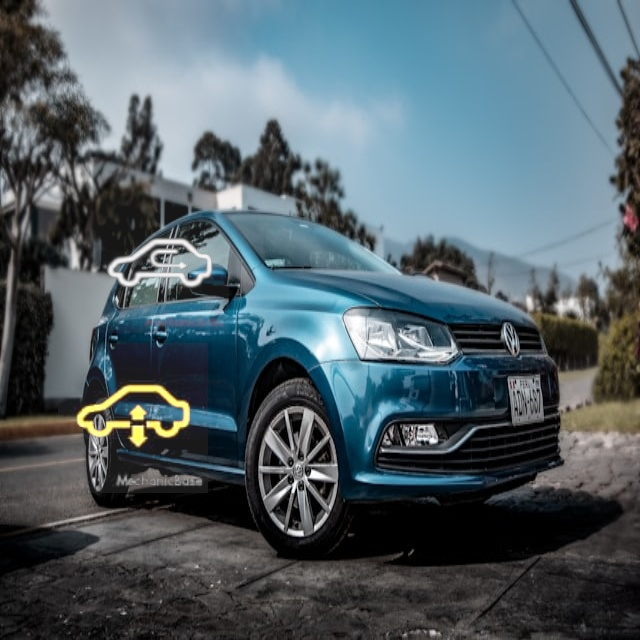symbol: (58, 343, 208, 493), (92, 196, 229, 333)
